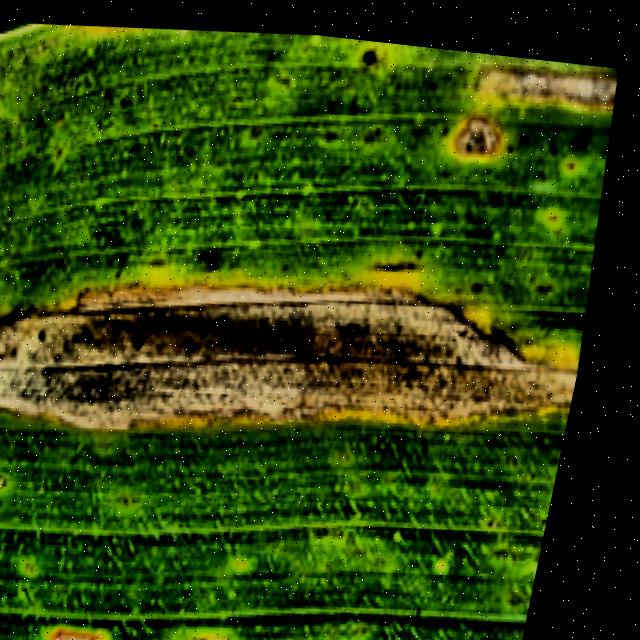gray_spot: (0, 9, 638, 640)
